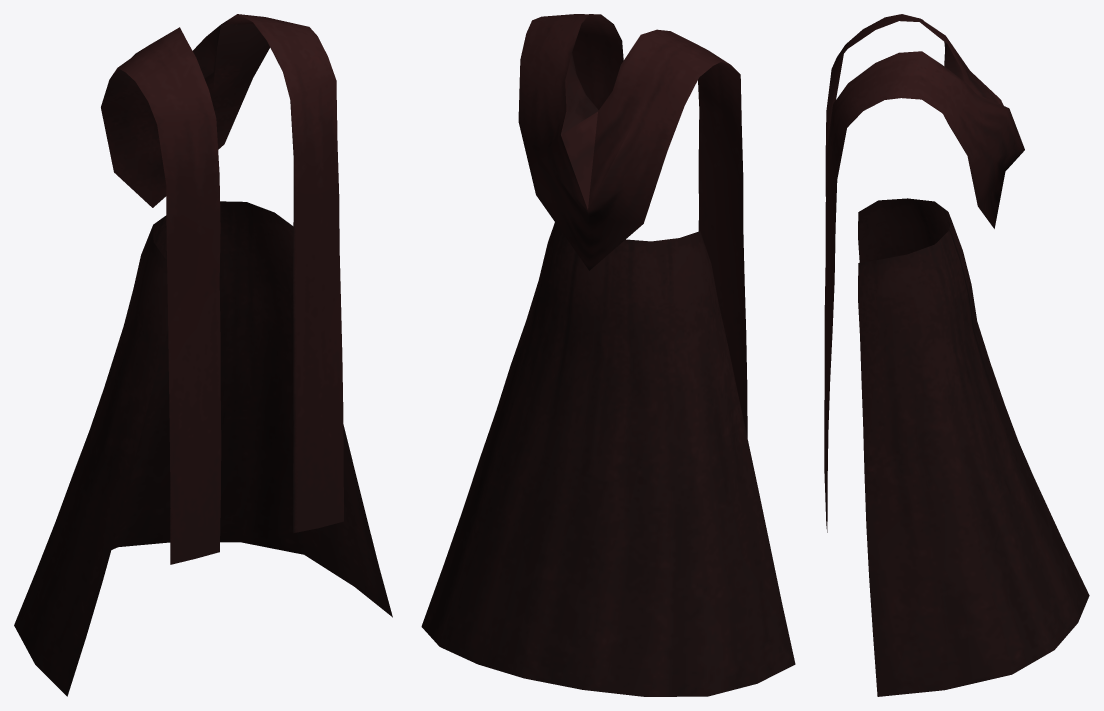
Rendered from shenel.fbx.
3 renders of one model, left to right at view 1: azimuth 30°, elevation 25°; view 2: azimuth 150°, elevation 25°; view 3: azimuth 270°, elevation 25°, orthographic. The views are drawn at different scales.
Visible parts, largest first — view 1: zsinj_hero_lanupasiq_cloth; view 2: zsinj_hero_lanupasiq_cloth; view 3: zsinj_hero_lanupasiq_cloth.
Boxes of the visible parts, bbox=[...] form: zsinj_hero_lanupasiq_cloth: bbox=[14, 14, 392, 696]; zsinj_hero_lanupasiq_cloth: bbox=[421, 14, 795, 696]; zsinj_hero_lanupasiq_cloth: bbox=[824, 14, 1089, 696].
Size of the model in its own units: 164 by 299 by 122.
1 material, 1 textured.
